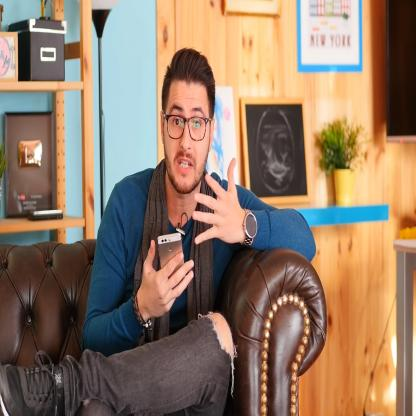smartphone: (156, 231, 186, 289)
